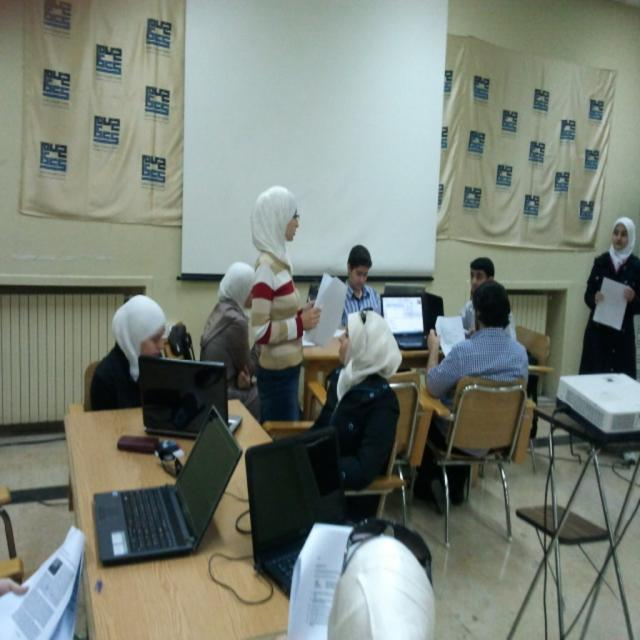chair: (506, 394, 640, 640), (422, 381, 528, 548), (346, 381, 421, 526), (84, 360, 101, 412)
desk: (60, 378, 253, 620)
laptop: (90, 404, 242, 568), (244, 428, 350, 599), (0, 527, 88, 639), (136, 356, 238, 442), (302, 272, 348, 348), (380, 294, 428, 350)
person: (420, 277, 531, 473), (248, 186, 320, 427), (312, 310, 403, 489), (579, 216, 640, 378), (90, 294, 169, 412), (199, 261, 256, 405), (340, 245, 384, 327), (457, 256, 495, 336)
